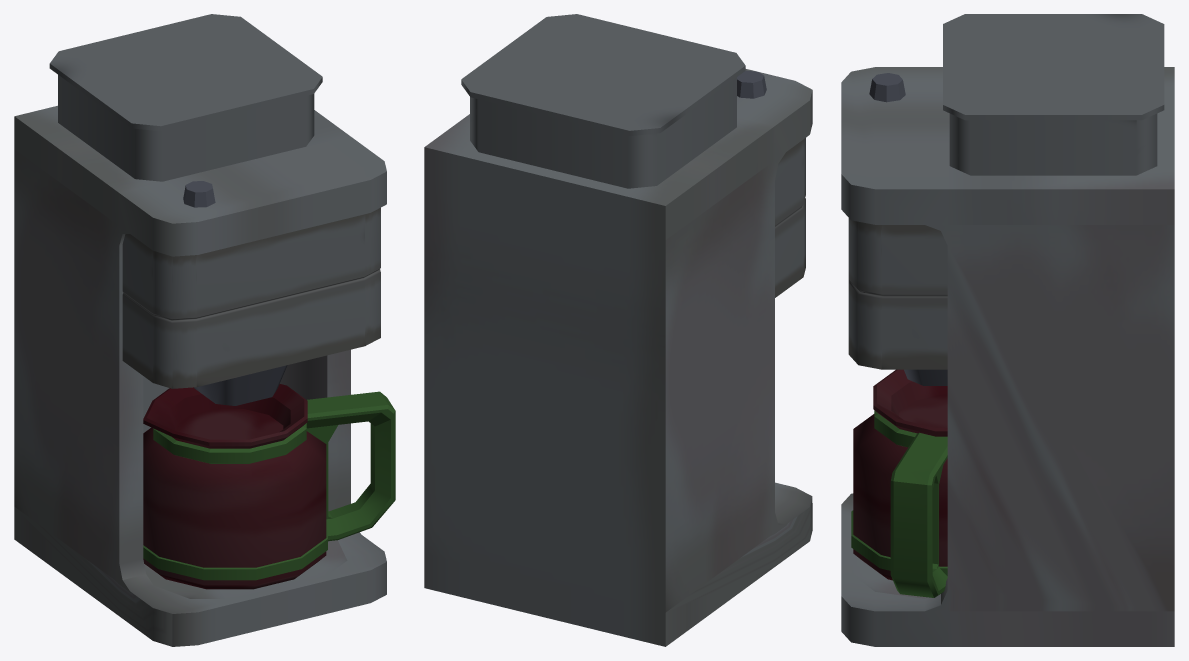
Rendered from CoffeeMaker.fbx.
3 views of the same model, side by side, from view 1: azimuth 30°, elevation 25°; view 2: azimuth 150°, elevation 25°; view 3: azimuth 270°, elevation 25° (orthographic). The views are drawn at different scales.
Parts seen in each view (by area): view 1: polySurface107; view 2: polySurface107; view 3: polySurface107.
Boxes of the visible parts, x1,y1,x2,y2 form: polySurface107: (14,14,395,646); polySurface107: (424,14,812,646); polySurface107: (841,14,1174,646).
Bounding box in the file's own units: 60.41 × 108 × 62.48.
